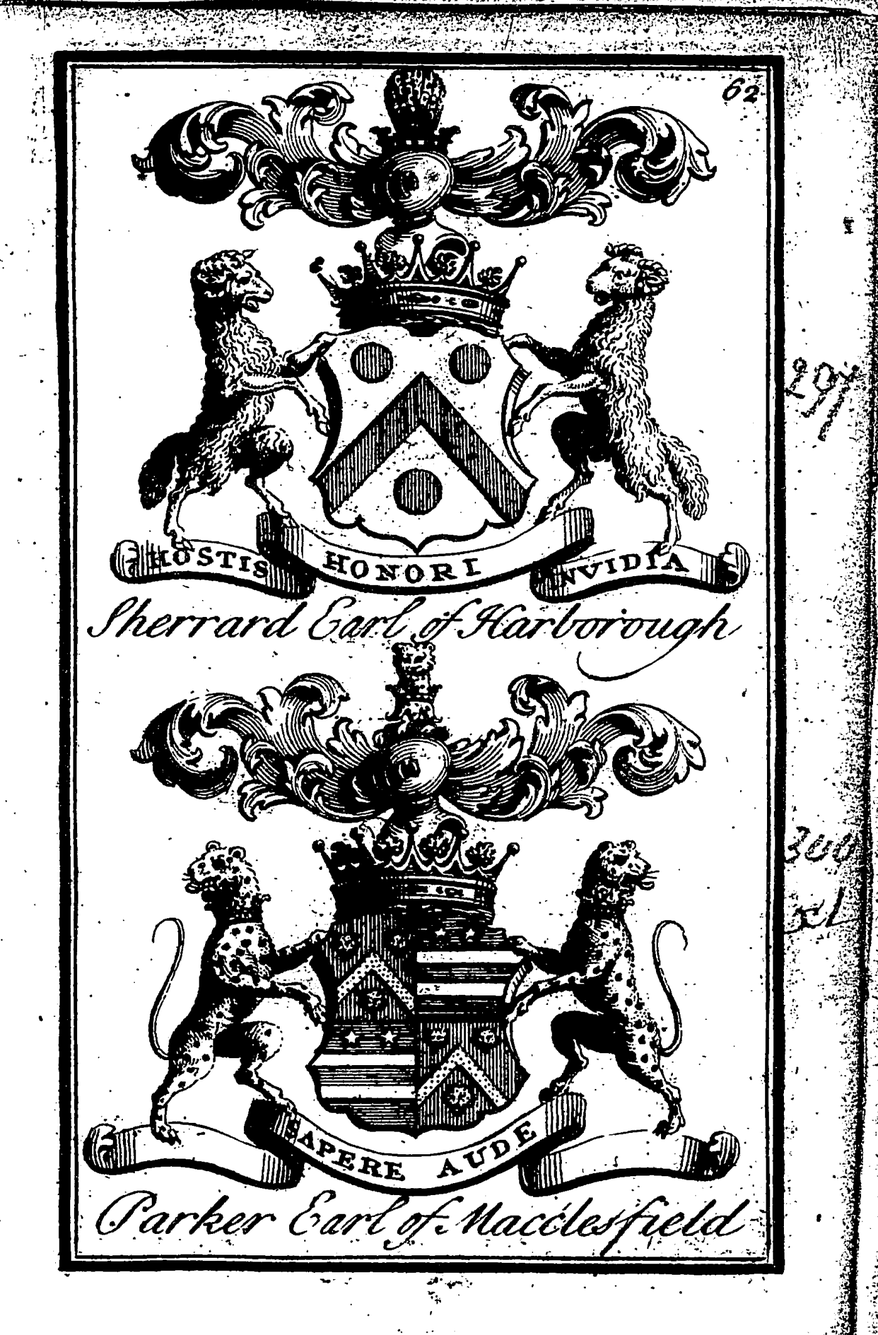coat_of_arms: (103, 69, 741, 661), (105, 672, 740, 1248)
